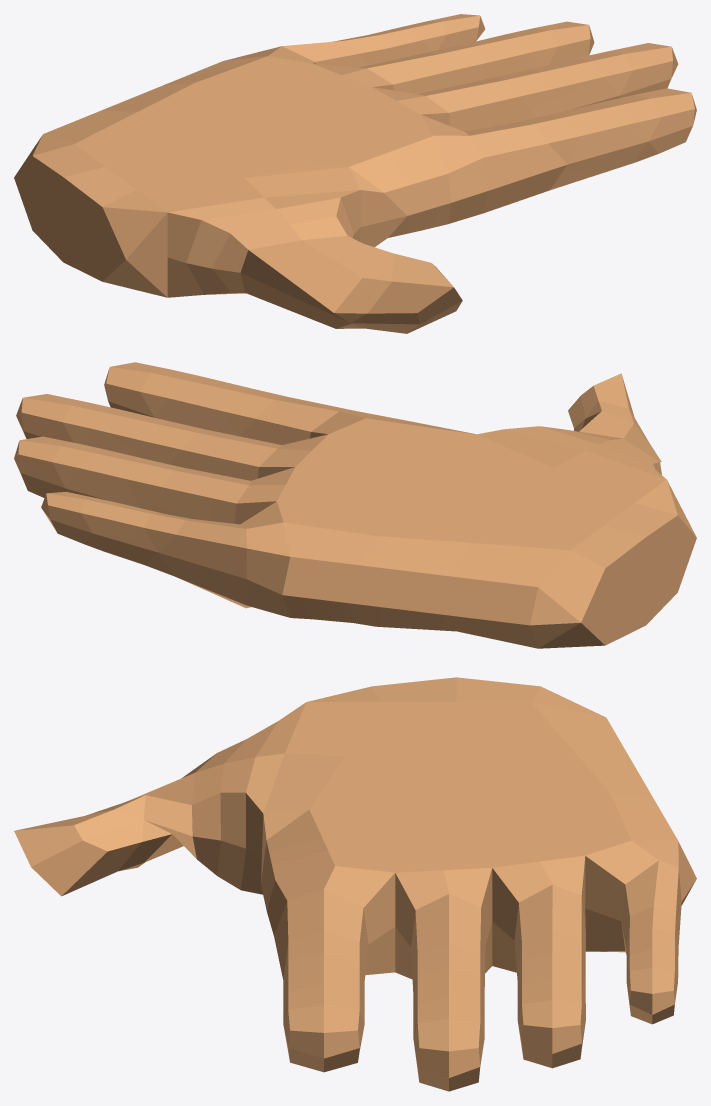
File: left hand2.fbx
3 views of the same model, one above another, from view 1: azimuth 30°, elevation 25°; view 2: azimuth 150°, elevation 25°; view 3: azimuth 270°, elevation 25° (orthographic). The views are drawn at different scales.
Parts seen in each view (by area): view 1: Cube; view 2: Cube; view 3: Cube.
Boxes of the visible parts, x1,y1,x2,y2 form: Cube: [14, 14, 696, 333]; Cube: [14, 362, 696, 648]; Cube: [14, 677, 696, 1091].
Size of the model in its own units: 458 by 63.92 by 367.
